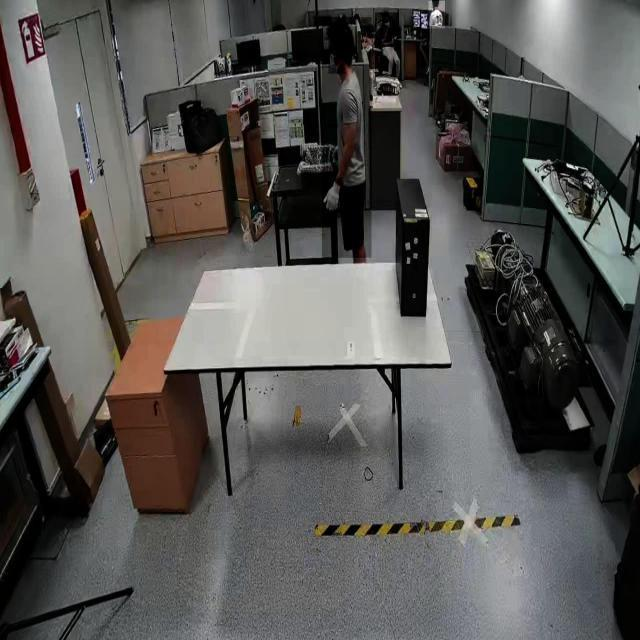gloves: (322, 178, 342, 218)
